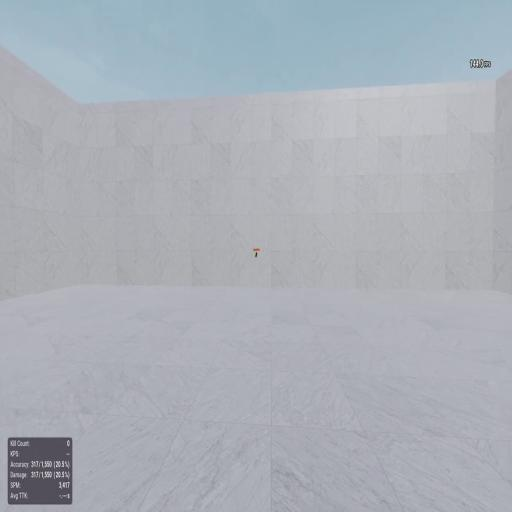Crosshair: (255, 254, 257, 258)
Target: (256, 252, 258, 256)
